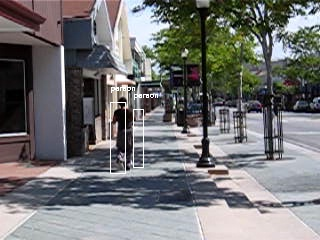person: (113, 96, 137, 172), (112, 96, 136, 172), (114, 96, 138, 172), (113, 95, 137, 171), (113, 97, 137, 173)
target_negative: (58, 163, 220, 214), (155, 85, 192, 123), (305, 64, 311, 234), (299, 153, 314, 194), (154, 196, 171, 215), (190, 54, 233, 58)
